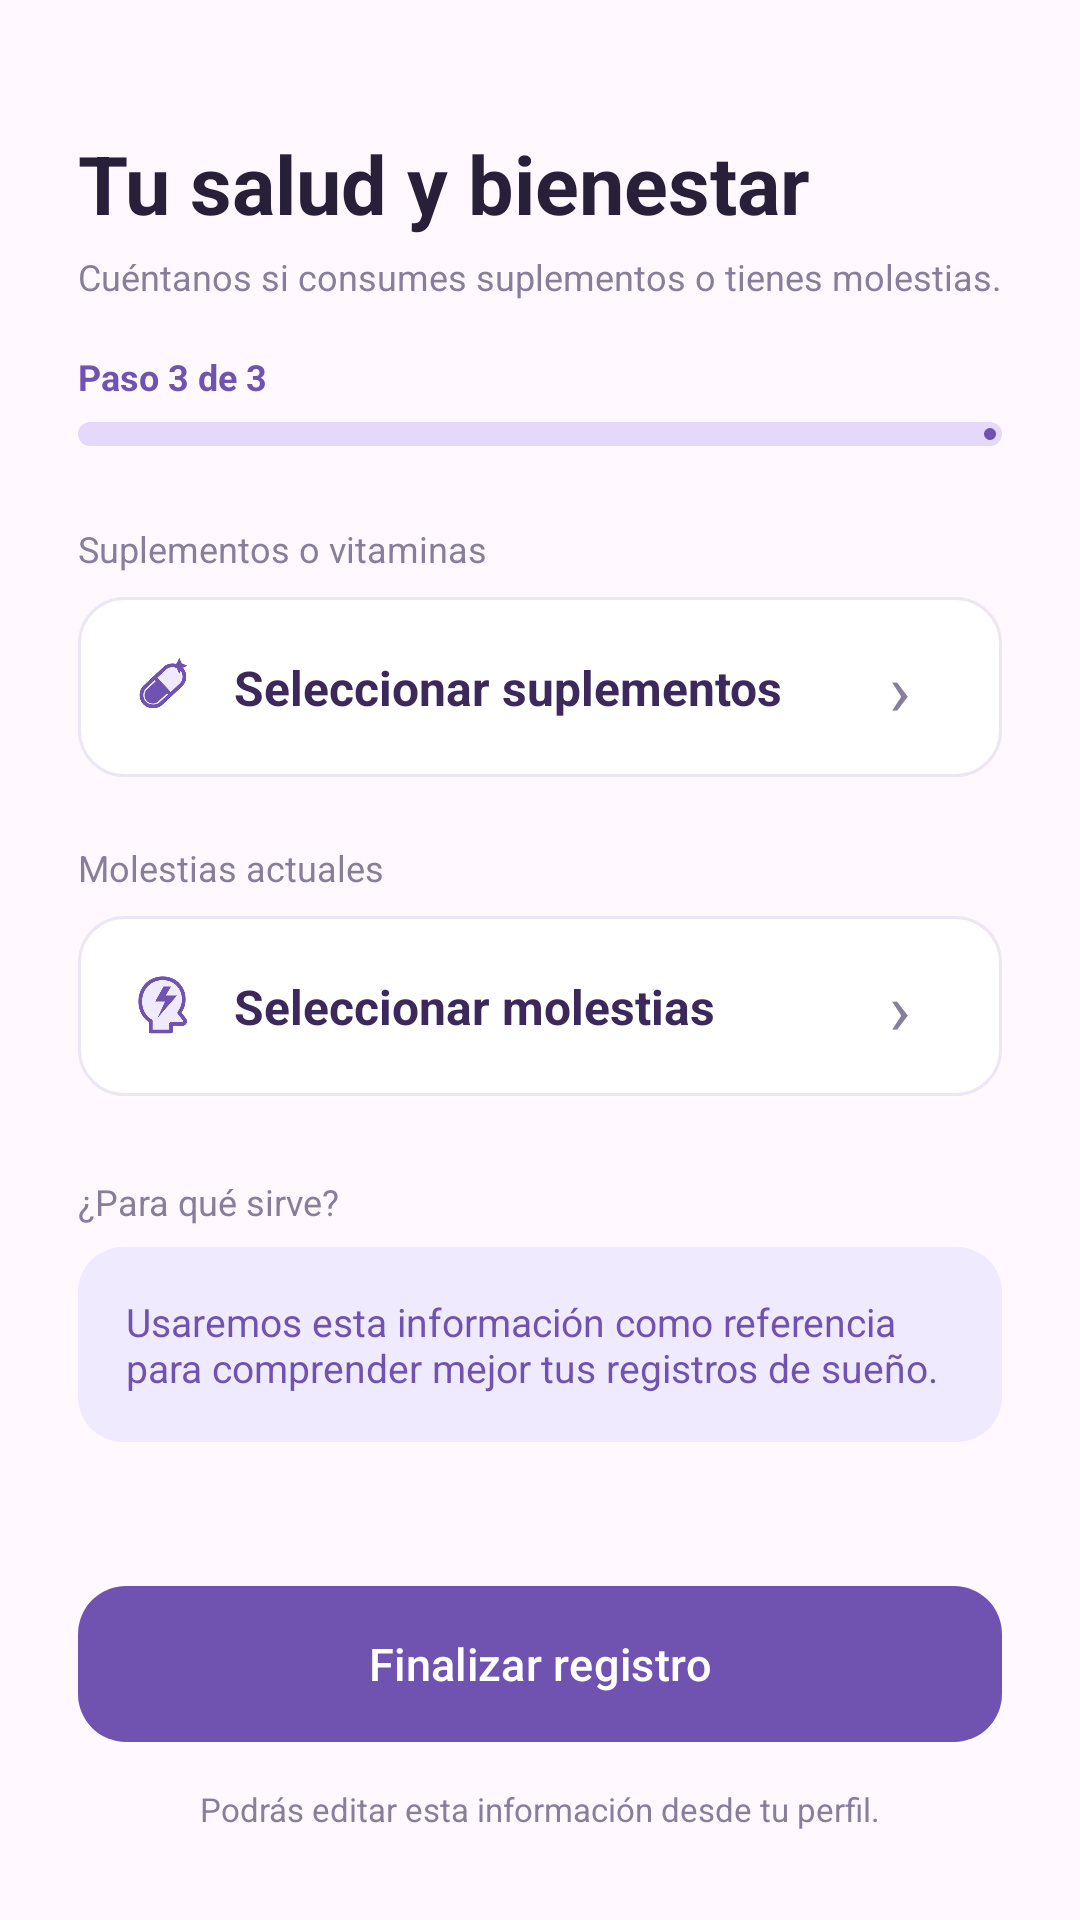

Icon bounding boxes for this 1080×1920 phone screenshot, format bbox(x1, y1, x2, y2):
Icono de molestias: bbox(138, 976, 187, 1034)
Icono de suplementos: bbox(139, 658, 187, 708)
